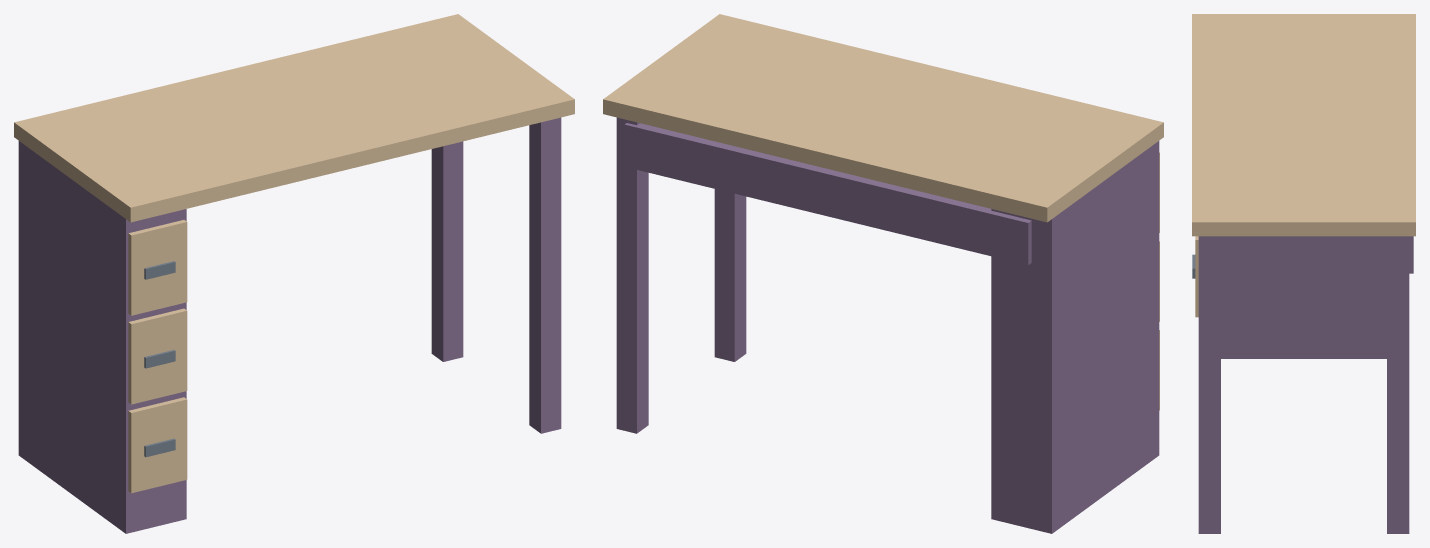
3 views of the same model, side by side, from view 1: azimuth 30°, elevation 25°; view 2: azimuth 150°, elevation 25°; view 3: azimuth 270°, elevation 25° (orthographic). The views are drawn at different scales.
Parts seen in each view (by area): view 1: vanity-top, vanity-cabinet, vanity-leg-right-front, vanity-leg-right-back, vanity-fixed-panel-1, vanity-fixed-panel-2, vanity-fixed-panel-3; view 2: vanity-top, vanity-cabinet, vanity-back-brace, vanity-leg-right-back, vanity-leg-right-front; view 3: vanity-top, vanity-cabinet, vanity-leg-right-back, vanity-leg-right-front, vanity-fixed-panel-1.
Part boxes in pixels (left/top/right/bottom): vanity-top: left=14, top=14, right=574, bottom=222; vanity-cabinet: left=18, top=141, right=186, bottom=533; vanity-leg-right-front: left=529, top=117, right=561, bottom=433; vanity-leg-right-back: left=431, top=141, right=463, bottom=361; vanity-fixed-panel-1: left=128, top=397, right=187, bottom=493; vanity-fixed-panel-2: left=128, top=308, right=187, bottom=404; vanity-fixed-panel-3: left=128, top=220, right=187, bottom=315; vanity-top: left=603, top=14, right=1163, bottom=222; vanity-cabinet: left=991, top=141, right=1159, bottom=533; vanity-back-brace: left=624, top=123, right=1031, bottom=265; vanity-leg-right-back: left=616, top=117, right=648, bottom=433; vanity-leg-right-front: left=714, top=189, right=746, bottom=361; vanity-top: left=1192, top=14, right=1415, bottom=236; vanity-cabinet: left=1221, top=236, right=1386, bottom=358; vanity-leg-right-back: left=1387, top=236, right=1409, bottom=533; vanity-leg-right-front: left=1198, top=236, right=1220, bottom=533; vanity-fixed-panel-1: left=1195, top=236, right=1198, bottom=317.
Size of the model in its own units: 1.1 by 0.78 by 0.5.
